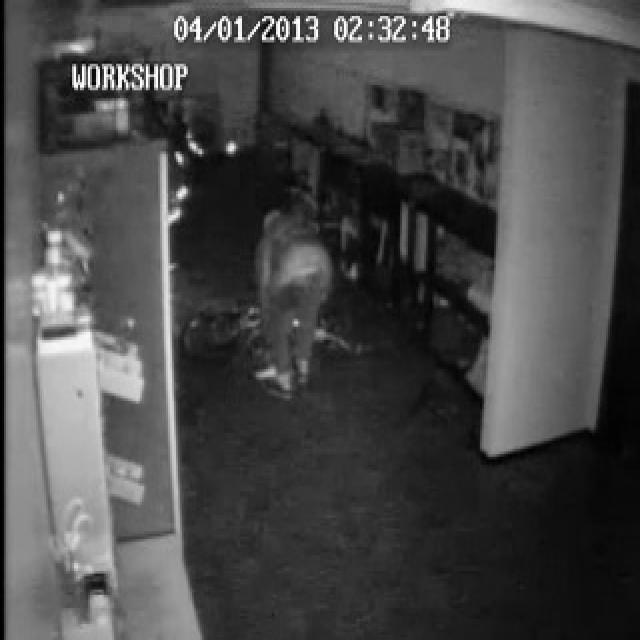thief: (255, 199, 329, 353)
